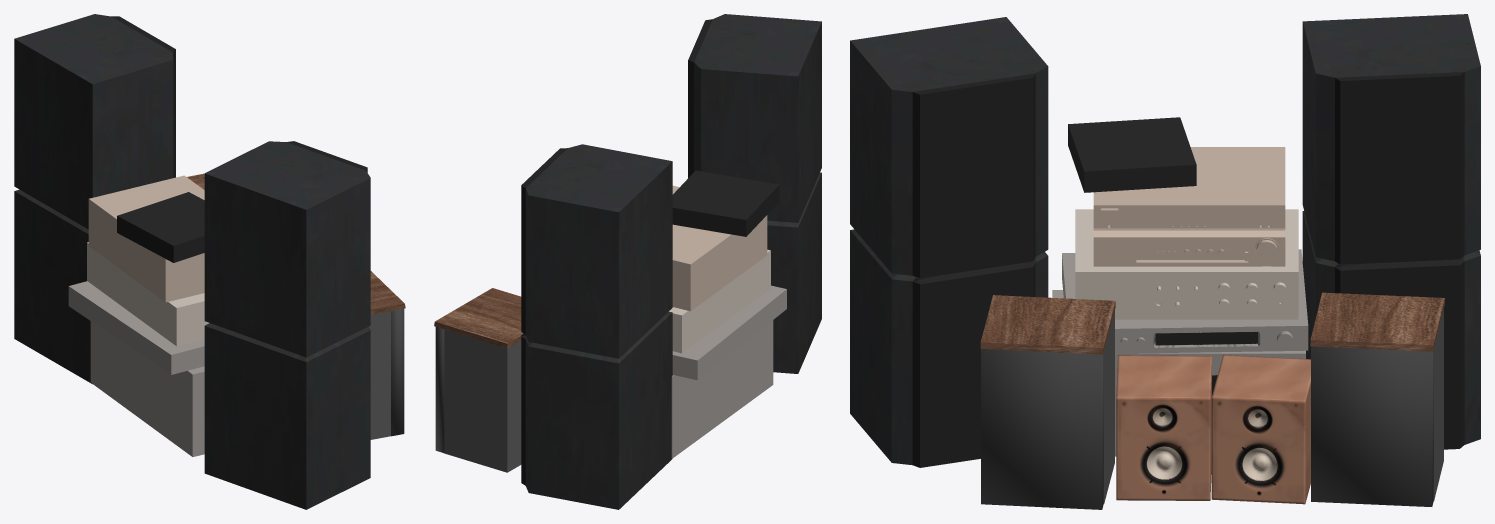
File: Speakers.fbx
3 views of the same model, side by side, from view 1: azimuth 30°, elevation 25°; view 2: azimuth 150°, elevation 25°; view 3: azimuth 270°, elevation 25° (orthographic). The views are drawn at different scales.
Parts seen in each view (by area): view 1: Cube.004, Cube.005, Cube.006, Plane.001, Plane, Cube.007, Cube.001, Cube.008, Cube.003; view 2: Cube.005, Cube.004, Cube, Cube.006, Plane.001, Cube.008, Cube.007, Plane, Cube.002; view 3: Cube.004, Cube.005, Cube.001, Cube, Plane.001, ShortSpeaker, ShortSpeaker.001, Plane, Cube.008, Cube.007, Cube.003, Cube.002 (+1 smaller).
Boxes of the visible parts, x1,y1,x2,y2 form: Cube.004: (204, 141, 370, 509); Cube.005: (14, 14, 175, 384); Cube.006: (90, 321, 204, 456); Plane.001: (88, 175, 204, 302); Plane: (87, 242, 209, 346); Cube.007: (68, 281, 204, 374); Cube.001: (368, 308, 404, 439); Cube.008: (117, 192, 204, 262); Cube.003: (370, 271, 405, 314); Cube.005: (521, 144, 672, 509); Cube.004: (688, 14, 821, 373); Cube: (435, 327, 521, 472); Cube.006: (671, 320, 773, 458); Plane.001: (672, 185, 767, 311); Cube.008: (672, 170, 779, 236); Cube.007: (672, 285, 786, 380); Plane: (669, 249, 770, 353); Cube.002: (434, 288, 523, 348); Cube.004: (850, 17, 1048, 467); Cube.005: (1302, 14, 1480, 449); Cube.001: (981, 311, 1114, 509); Cube: (1311, 309, 1443, 506); Plane.001: (1093, 147, 1285, 266); ShortSpeaker: (1211, 355, 1310, 504); ShortSpeaker.001: (1116, 355, 1211, 500); Plane: (1075, 209, 1298, 319); Cube.008: (1068, 117, 1196, 192); Cube.007: (1062, 249, 1308, 353); Cube.003: (980, 295, 1115, 354); Cube.002: (1310, 292, 1444, 351).
Bounding box in the file's own units: 551 × 726 × 1112.
Materials: 10 (4 with a texture image).
